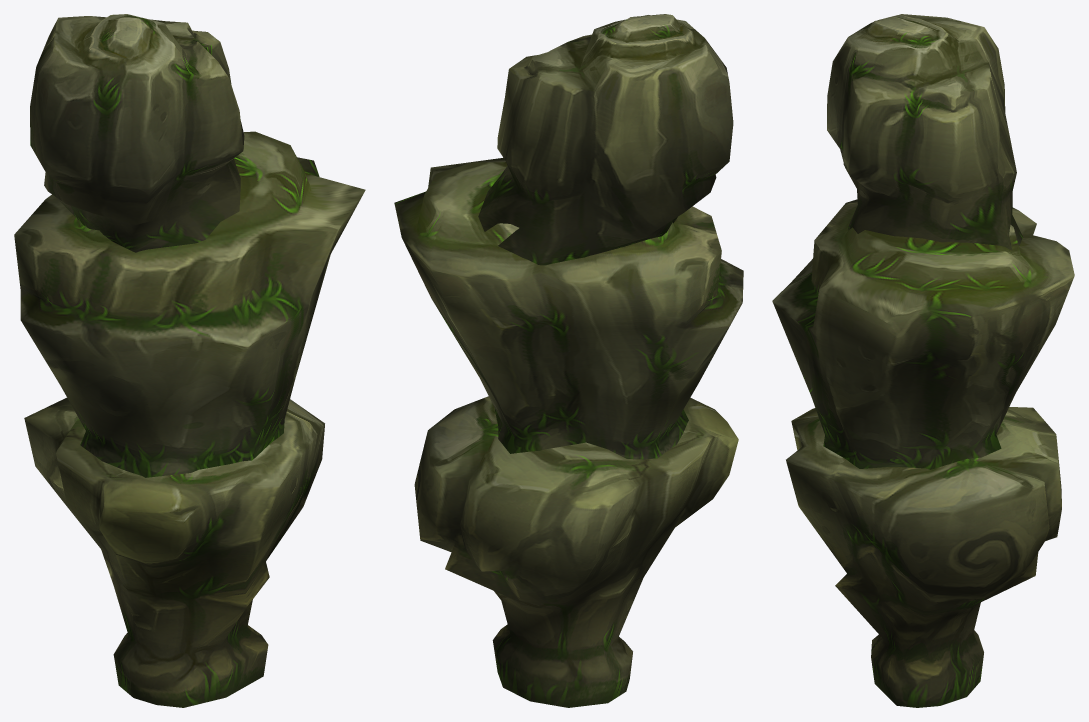
The model's file is Rock_Formation_02_10.fbx.
The picture shows the model from 3 angles, left to right: view 1: azimuth 30°, elevation 25°; view 2: azimuth 150°, elevation 25°; view 3: azimuth 270°, elevation 25°; orthographic projection. The views are drawn at different scales.
Parts seen in each view (by area): view 1: Rock_Formation_02_10; view 2: Rock_Formation_02_10; view 3: Rock_Formation_02_10.
Boxes of the visible parts, x1,y1,x2,y2 form: Rock_Formation_02_10: (14,14,365,707); Rock_Formation_02_10: (394,14,743,707); Rock_Formation_02_10: (772,14,1074,707).
Size of the model in its own units: 235 by 470 by 207.
